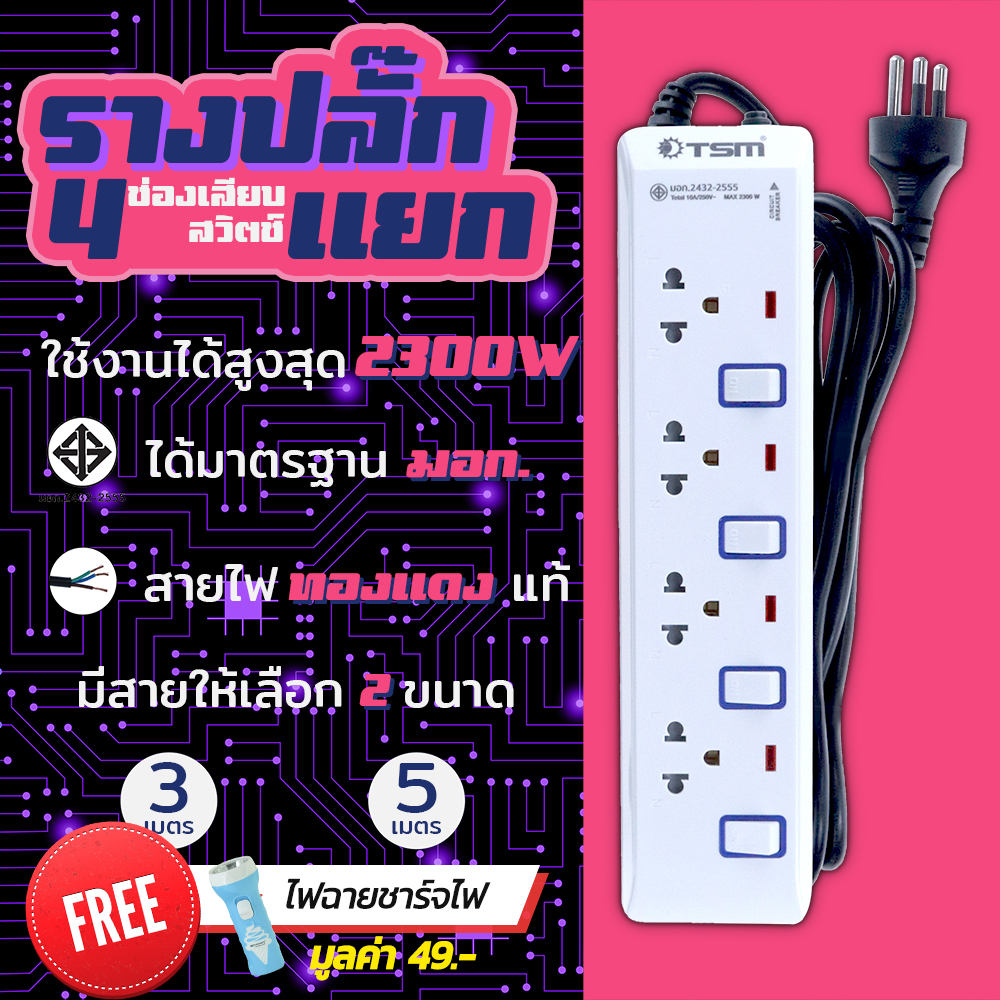Three_eye_plug: (600, 106, 826, 938)
